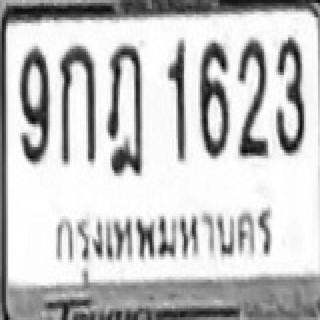A01: (58, 43, 94, 161)
A14: (105, 41, 143, 173)
N01: (166, 39, 186, 160)
N02: (237, 37, 267, 156)
N03: (274, 35, 304, 153)
N06: (198, 40, 228, 156)
N09: (18, 46, 48, 161)
P04: (48, 201, 278, 285)
